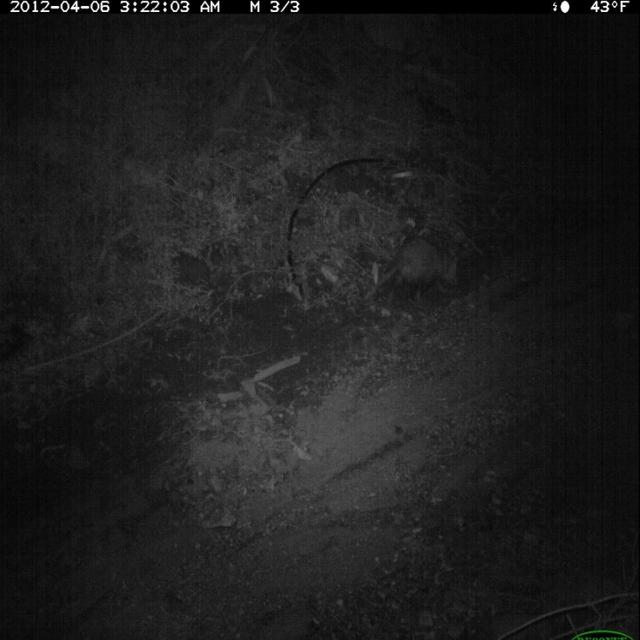opossum: (356, 221, 468, 323)
